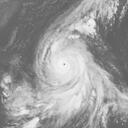cyclone: (36, 39, 92, 87)
